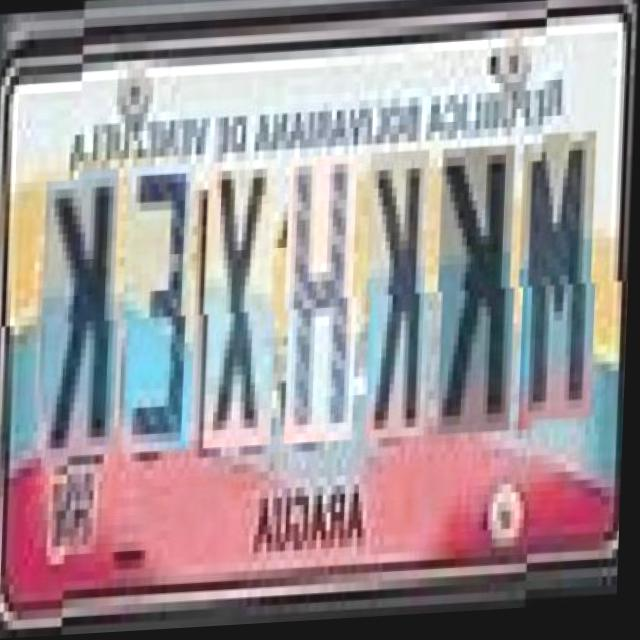e: (121, 166, 197, 456)
h: (283, 158, 359, 448)
k: (40, 169, 120, 460), (437, 151, 516, 441), (364, 155, 432, 444)
m: (517, 147, 597, 437)
x: (202, 162, 278, 452)
